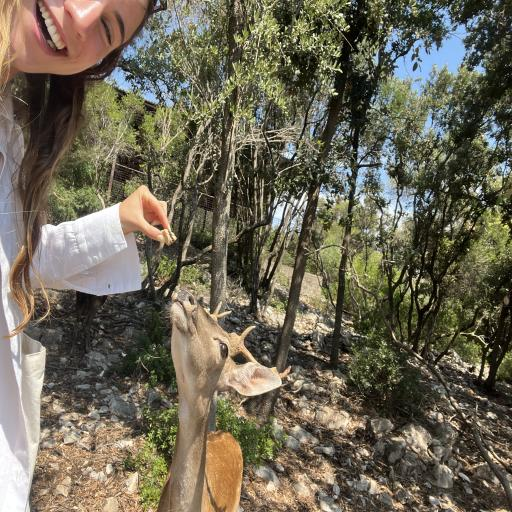masa: (0, 0, 226, 152)
